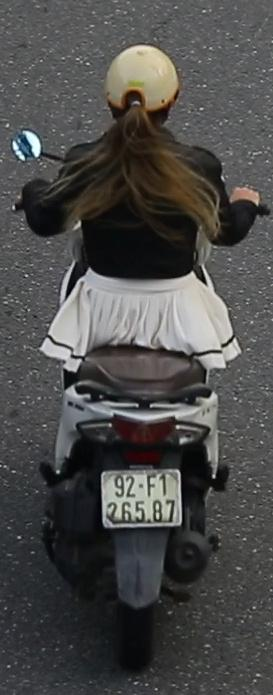LP: (96, 462, 193, 542)
helmet: (100, 35, 180, 130)
